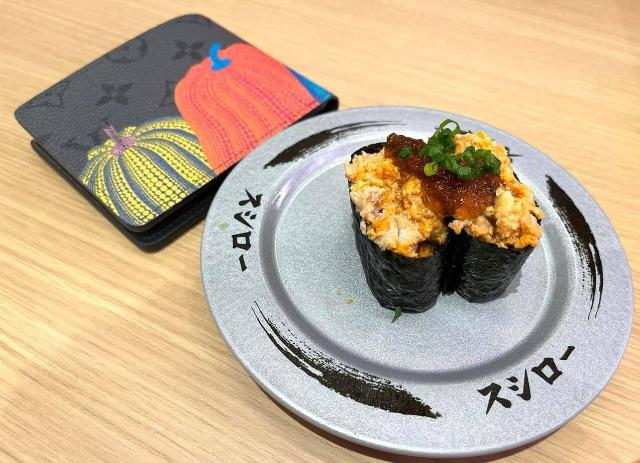janwhite: (216, 136, 617, 453)
